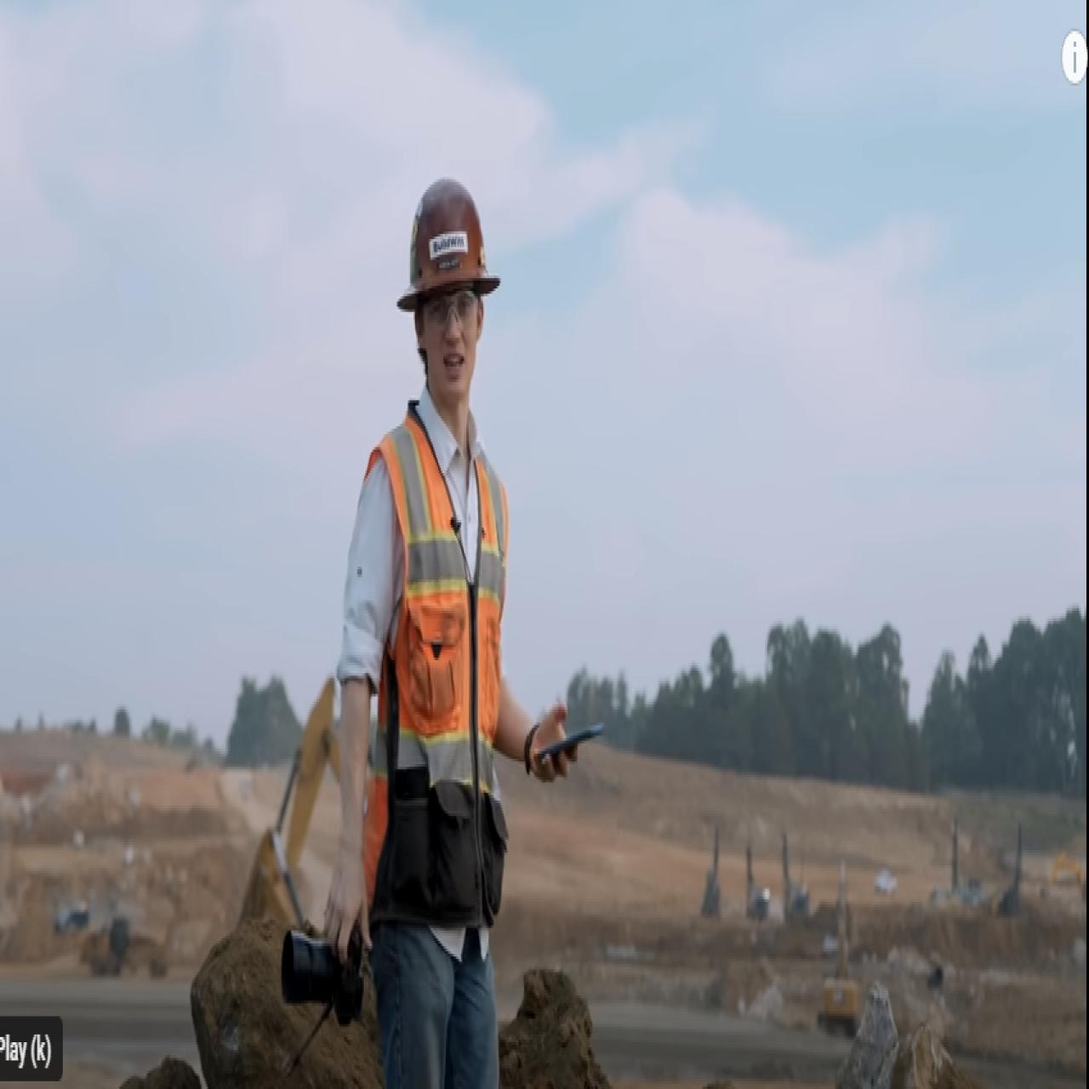Person: (314, 143, 600, 1089)
Safety_Vest: (357, 406, 506, 934)
